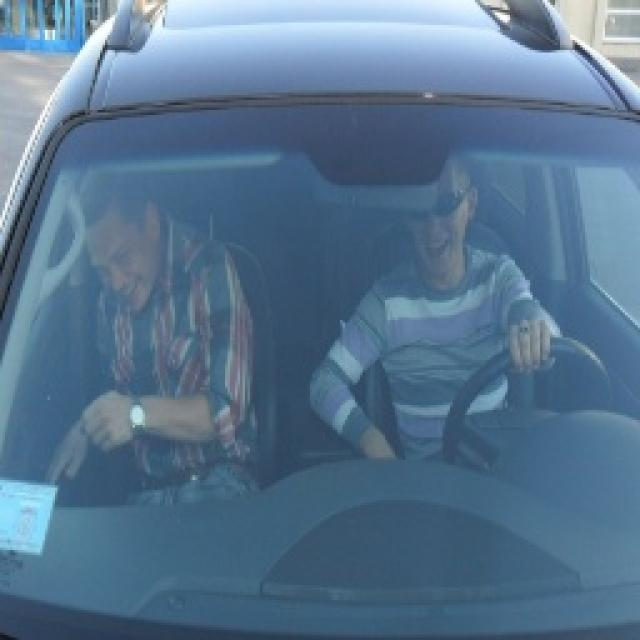windshield: (0, 92, 638, 640)
